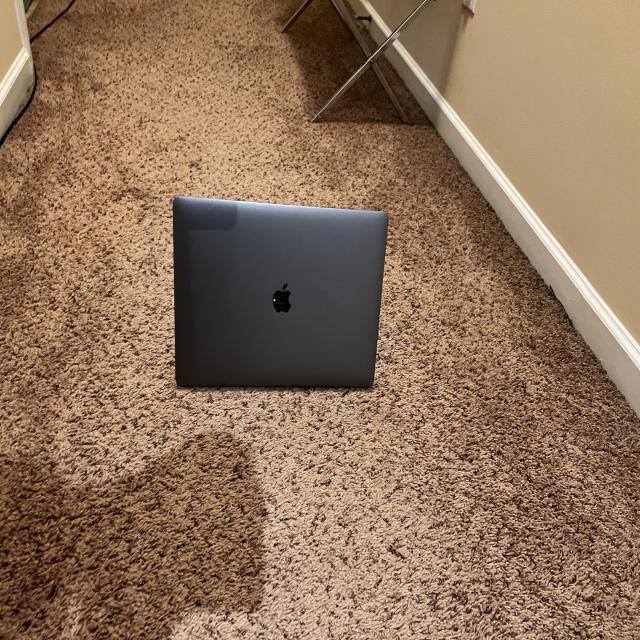laptop: (171, 194, 388, 389)
